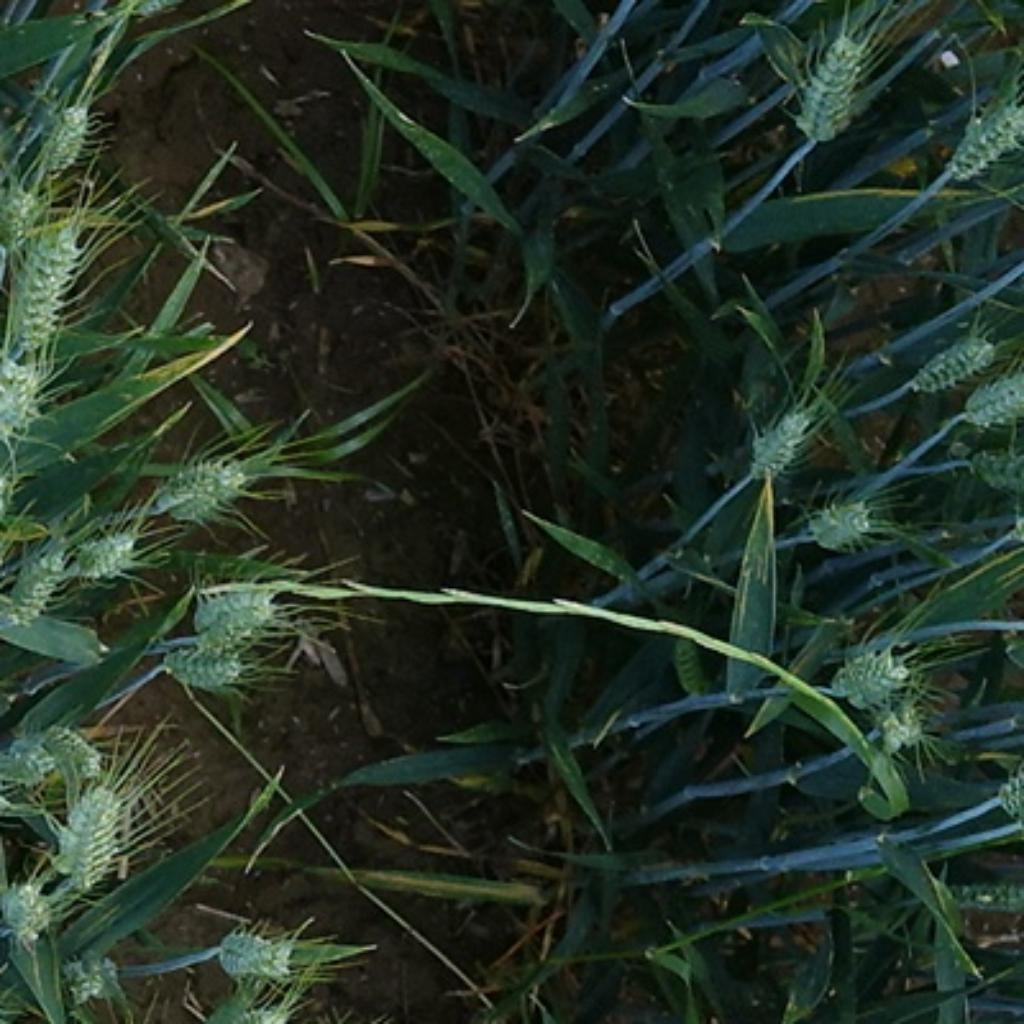0-0: (0, 215, 84, 350), (46, 775, 138, 888), (179, 570, 286, 663), (789, 25, 870, 146), (156, 442, 261, 522), (148, 619, 263, 691), (824, 637, 924, 716), (0, 719, 112, 788), (952, 92, 1024, 192), (1, 532, 71, 634), (744, 396, 819, 481), (23, 89, 97, 174), (906, 325, 995, 394), (212, 921, 302, 985), (801, 486, 880, 552), (952, 366, 1024, 435), (69, 517, 143, 583), (56, 942, 125, 1011), (0, 348, 51, 440), (929, 877, 1024, 924), (0, 870, 61, 942), (962, 437, 1024, 501), (866, 703, 929, 762), (0, 176, 46, 253), (0, 970, 2, 1024)
